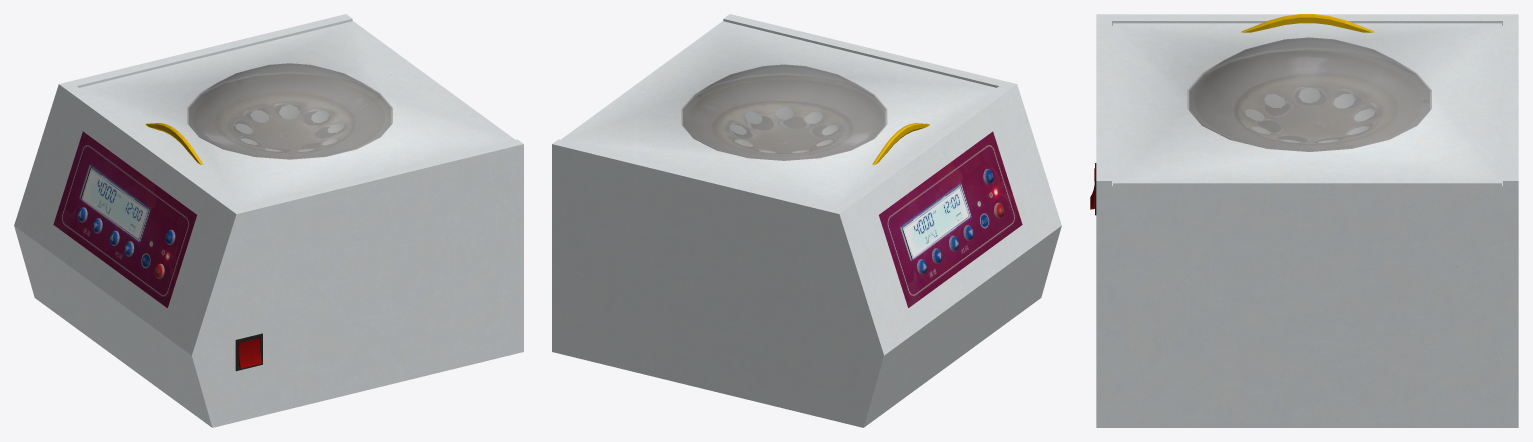
Rendered from SM_乳脂离心机.FBX.
The picture shows the model from 3 angles, left to right: view 1: azimuth 30°, elevation 25°; view 2: azimuth 150°, elevation 25°; view 3: azimuth 270°, elevation 25°; orthographic projection. The views are drawn at different scales.
Visible parts, largest first — view 1: SM_G乳脂离心机, SM_G乳脂离心机盖, SM_G乳脂离心机转盘, SM_G乳脂离心机_开关; view 2: SM_G乳脂离心机, SM_G乳脂离心机盖, SM_G乳脂离心机转盘; view 3: SM_G乳脂离心机, SM_G乳脂离心机盖, SM_G乳脂离心机转盘.
Boxes of the visible parts, x1=… form: SM_G乳脂离心机: x1=14, y1=14, x2=523, y2=427; SM_G乳脂离心机盖: x1=80, y1=21, x2=514, y2=206; SM_G乳脂离心机转盘: x1=189, y1=74, x2=390, y2=158; SM_G乳脂离心机_开关: x1=238, y1=337, x2=262, y2=368; SM_G乳脂离心机: x1=552, y1=14, x2=1061, y2=427; SM_G乳脂离心机盖: x1=561, y1=21, x2=995, y2=206; SM_G乳脂离心机转盘: x1=683, y1=75, x2=884, y2=159; SM_G乳脂离心机: x1=1095, y1=14, x2=1518, y2=427; SM_G乳脂离心机盖: x1=1113, y1=14, x2=1501, y2=185; SM_G乳脂离心机转盘: x1=1190, y1=50, x2=1429, y2=150.
Size of the model in its own units: 45.21 by 42.52 by 31.42.
